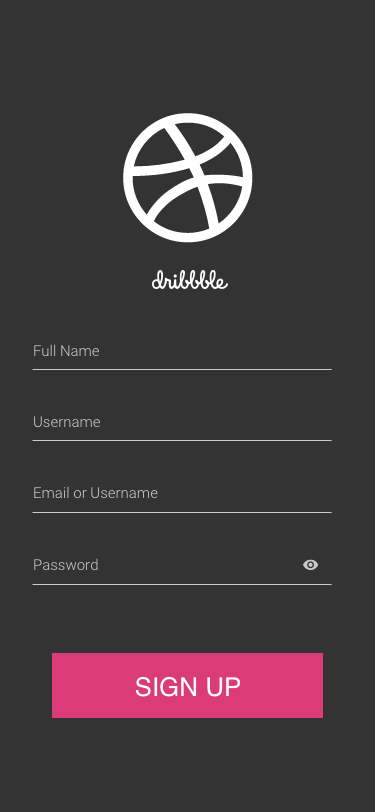EditText: (32, 558, 333, 586), (33, 486, 333, 514), (32, 344, 332, 371), (32, 416, 332, 442)
Icon: (303, 559, 319, 571)
Image: (123, 113, 253, 244), (152, 270, 229, 291)
Text: (35, 486, 159, 499), (33, 558, 99, 571), (34, 344, 100, 357), (34, 416, 102, 428)
TextButton: (52, 653, 324, 719)
